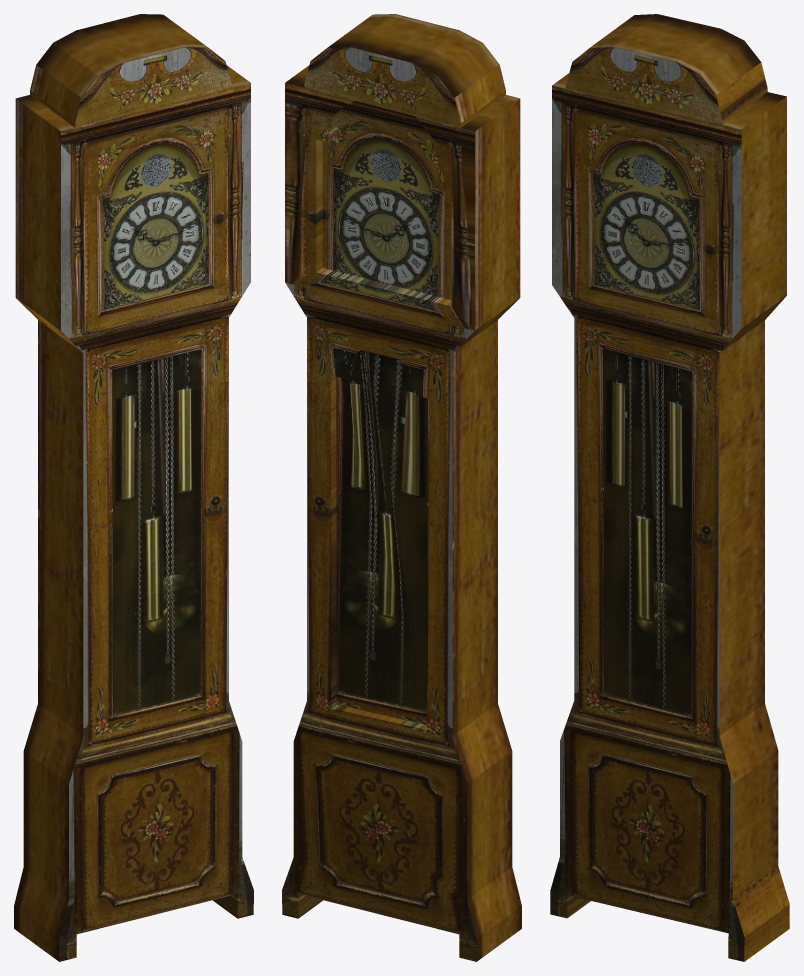
The model's file is pendumclock.fbx.
3 renders of one model, left to right at view 1: azimuth 30°, elevation 25°; view 2: azimuth 150°, elevation 25°; view 3: azimuth 330°, elevation 25°, orthographic.
Visible parts, largest first — view 1: PendumClock; view 2: PendumClock; view 3: PendumClock.
Part boxes in pixels (x1,y1,x2,y2): PendumClock: [14, 14, 253, 961]; PendumClock: [282, 14, 521, 961]; PendumClock: [550, 14, 789, 961].
Size of the model in its own units: 27.23 by 293 by 67.51.
